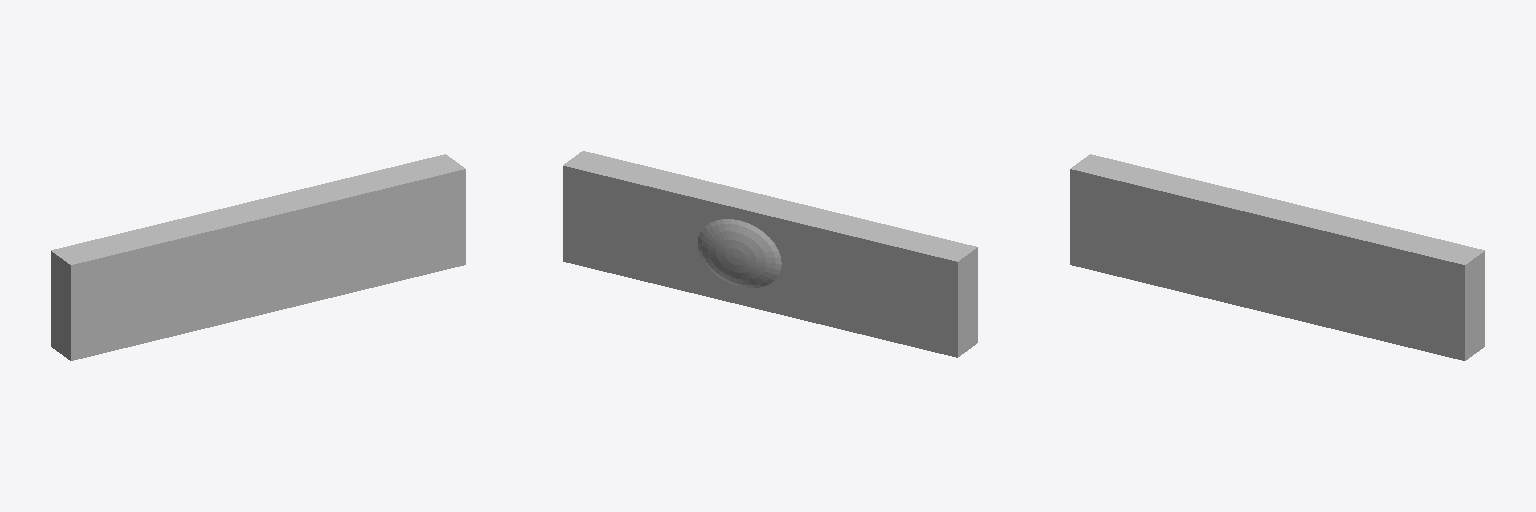
Rendered from bar_rotate_off_centre.obj.
The picture shows the model from 3 angles: view 1: azimuth 30°, elevation 25°; view 2: azimuth 150°, elevation 25°; view 3: azimuth 330°, elevation 25°; orthographic projection.
Visible parts, largest first — view 1: Cube.001; view 2: Cube.001, Sphere; view 3: Cube.001.
Part boxes in pixels (left/top/right/bottom): Cube.001: left=51, top=154, right=465, bottom=360; Cube.001: left=563, top=151, right=977, bottom=357; Sphere: left=698, top=219, right=781, bottom=287; Cube.001: left=1070, top=154, right=1484, bottom=360.
Size of the model in its own units: 5.76 by 1.34 by 0.6295.